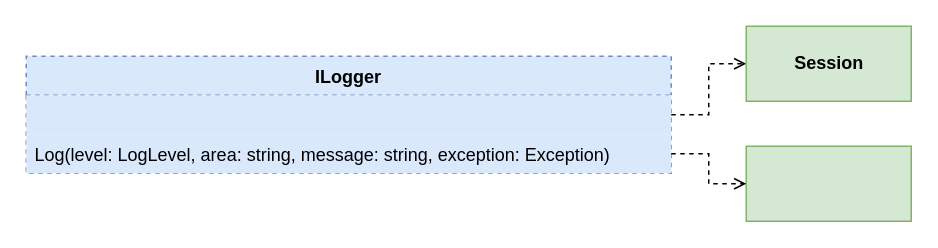
The diagram is 938 pixels wide and 248 high, and some of its shapes have lost their labels. The shapes that lost their labels are listed below. From the top down, each one's box as (x1, y1, x2, y2) in pixels, then its label:
(26, 94, 670, 134): Log(level. LogLevel, area: string, message: string)
(745, 145, 911, 221): «enum» LogLevel
